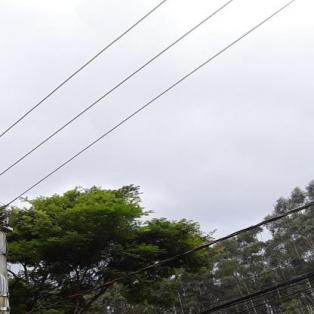Poste: (0, 204, 26, 314)
